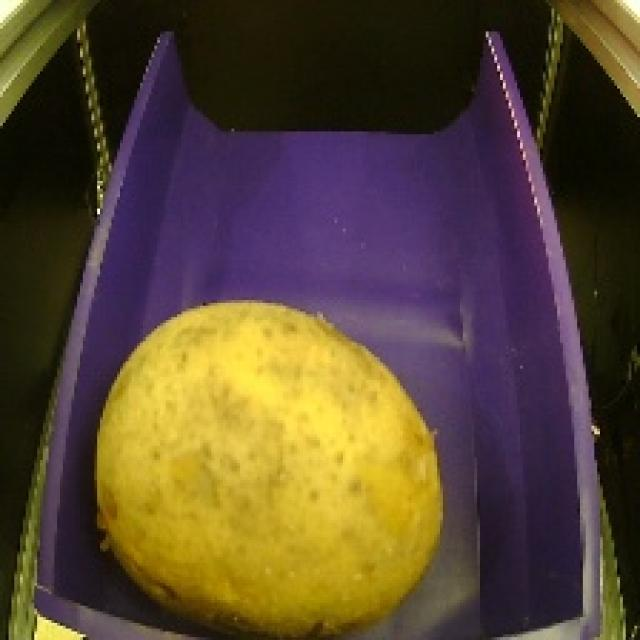full_potato: (75, 286, 455, 640)
